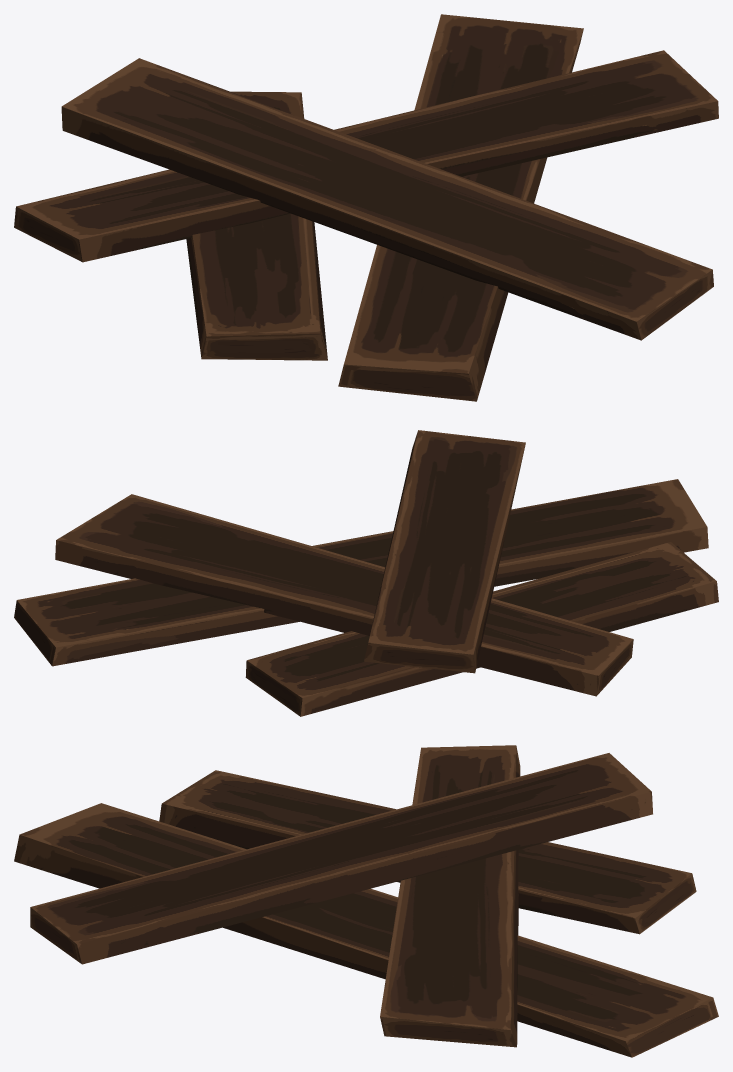
File: SM_PROP_planks_dungeon_04.fbx
The picture shows the model from 3 angles, top to bottom: view 1: azimuth 30°, elevation 25°; view 2: azimuth 150°, elevation 25°; view 3: azimuth 270°, elevation 25°; orthographic projection. The views are drawn at different scales.
Parts seen in each view (by area): view 1: SM_PROP_planks_dungeon_04; view 2: SM_PROP_planks_dungeon_04; view 3: SM_PROP_planks_dungeon_04.
Boxes of the visible parts, box(x1,y1,x2,y2) form: SM_PROP_planks_dungeon_04: box(14, 14, 718, 401); SM_PROP_planks_dungeon_04: box(14, 430, 718, 716); SM_PROP_planks_dungeon_04: box(14, 745, 718, 1057).
Size of the model in its own units: 162 by 19.99 by 169.
